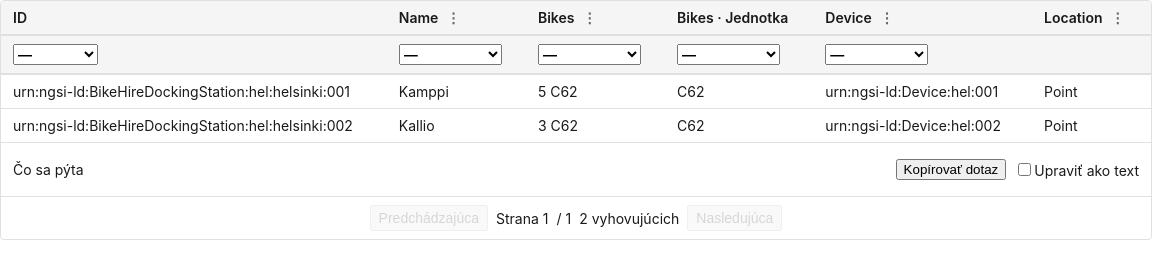
Test: EntityGrid › Slovak labels show no English text
This screenshot has width=1152, height=257.
Expected: the text "Kamppi" is shown, [387,74,526,108]
Click the button named "Zobraziť metadáta pre availableBikeNumber": (590, 18) [578,9,600,26]
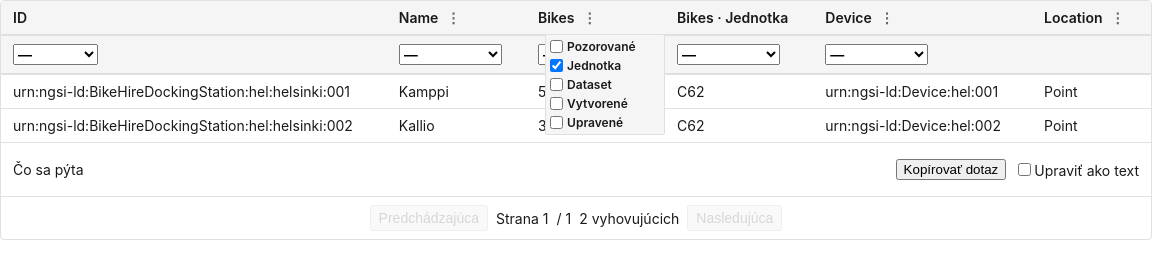
Expected: the text "Strana 1" is shown, [496,210,548,226]
Result: the text "Pozorované" is shown at [550,39,636,54]
